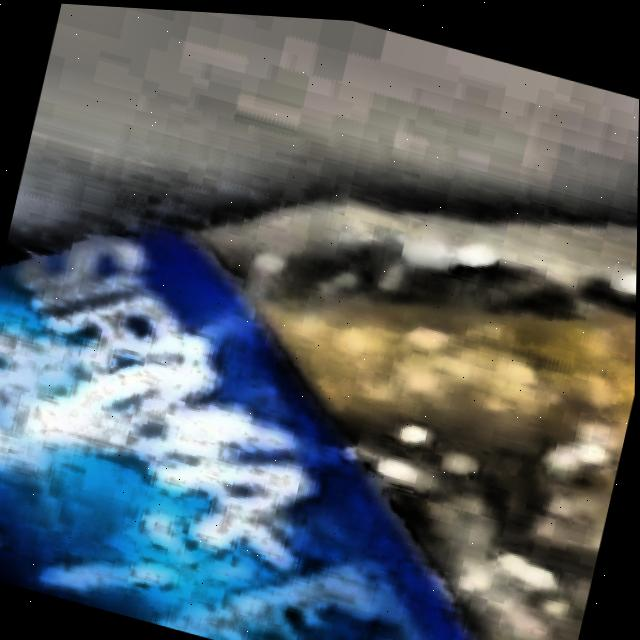plastic: (0, 200, 638, 640)
